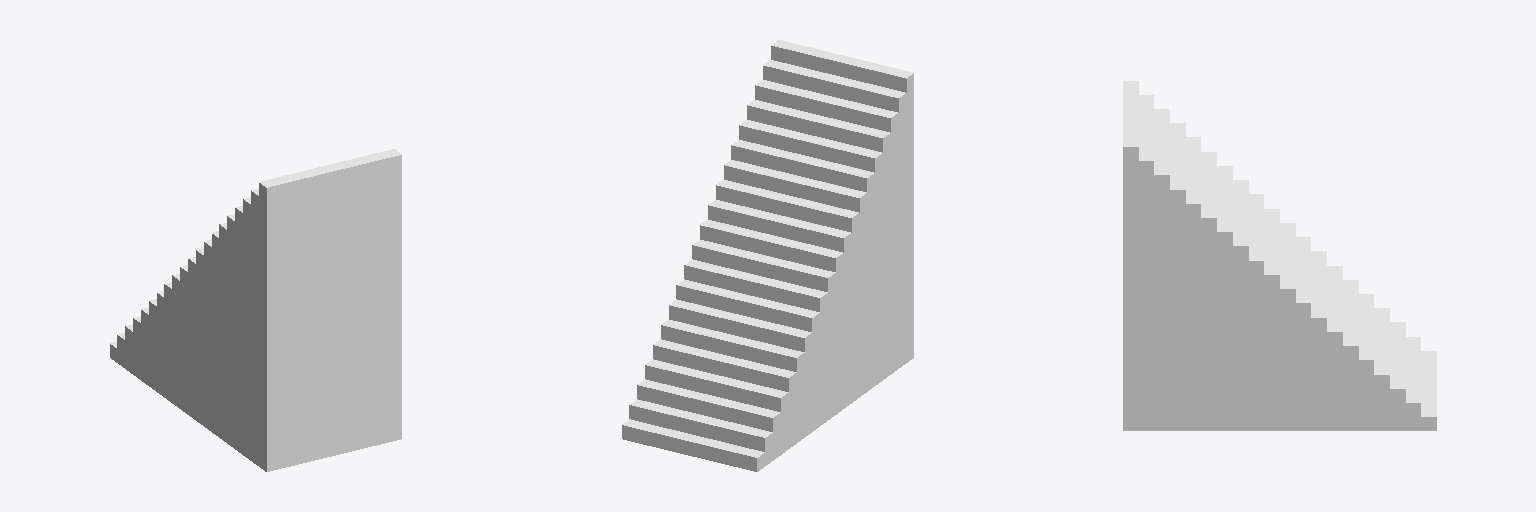
File: stairs_40_40_20.obj
3 views of the same model, side by side, from view 1: azimuth 30°, elevation 25°; view 2: azimuth 150°, elevation 25°; view 3: azimuth 270°, elevation 25° (orthographic).
Visible parts, largest first — view 1: object 1; view 2: object 1; view 3: object 1.
Boxes of the visible parts, x1,y1,x2,y2 form: object 1: [110, 149, 401, 471]; object 1: [622, 40, 913, 471]; object 1: [1123, 81, 1436, 430].
Size of the model in its own units: 2 by 4 by 4.